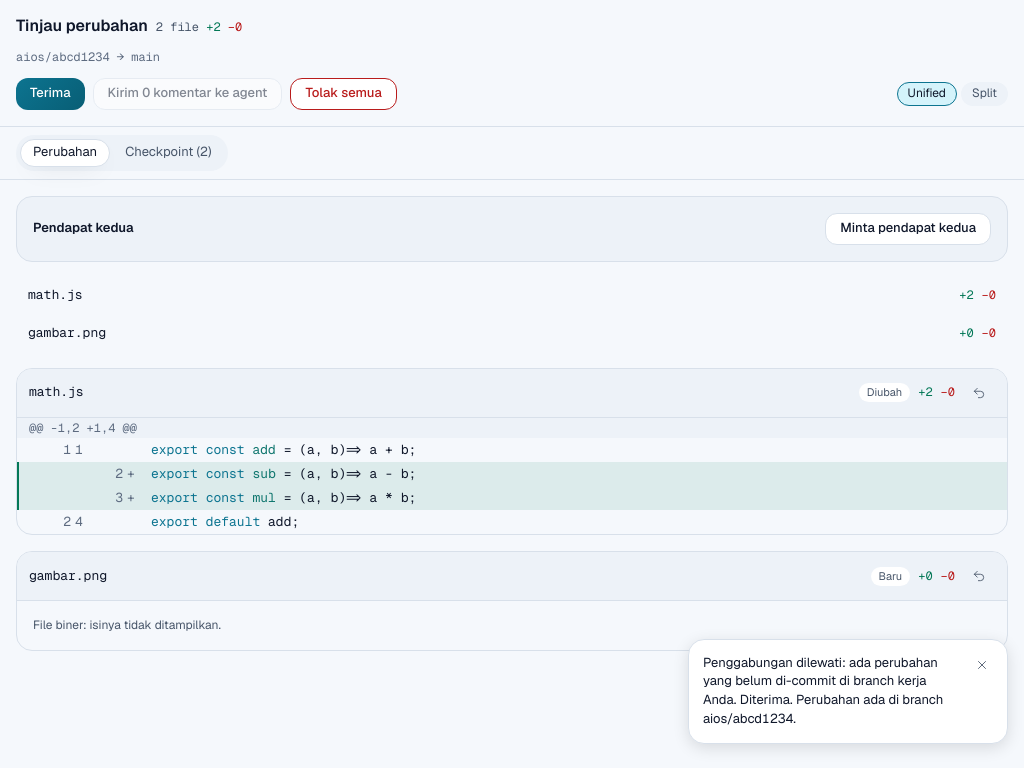
Scenario: Tinjau perubahan: terima dan tolak › Tolak semua: meminta konfirmasi dulu, lalu membuang
Check: the heading "Tinjau perubahan" is shown, box [16,16,148,37]
Check: the element "math.js" is shown, box [16,368,1008,535]
Click the button "Tolak semua": coordinates (344, 94) [290,78,397,110]
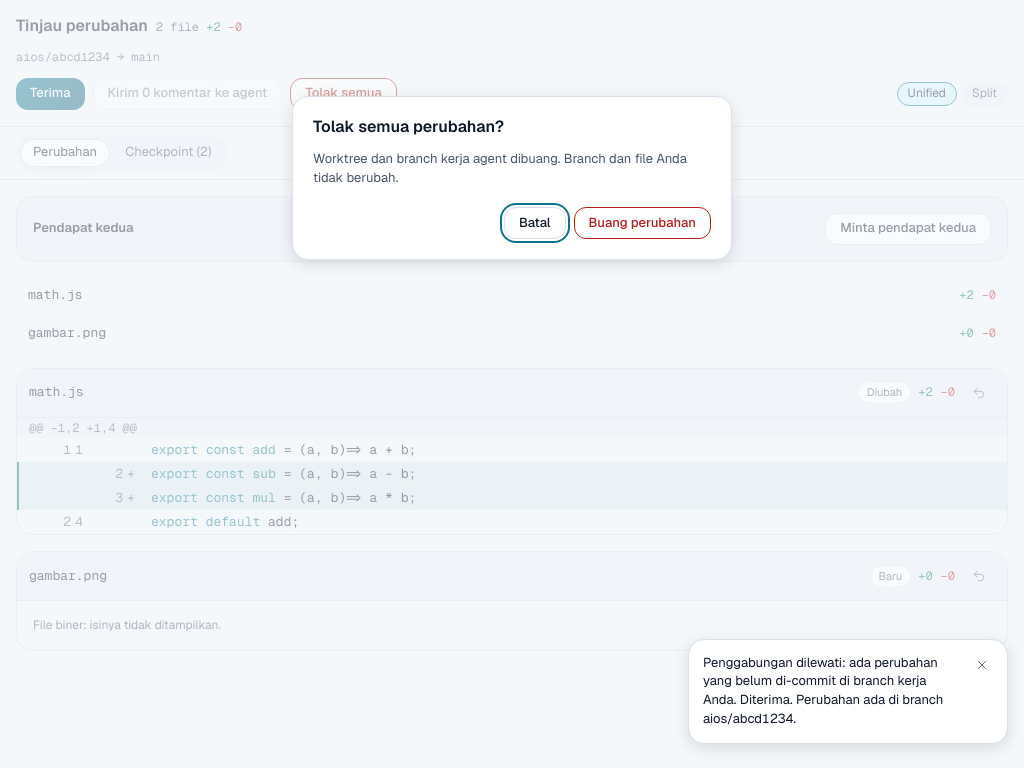
Click the button "Buang perubahan": coordinates (642, 224) [574,208,711,240]
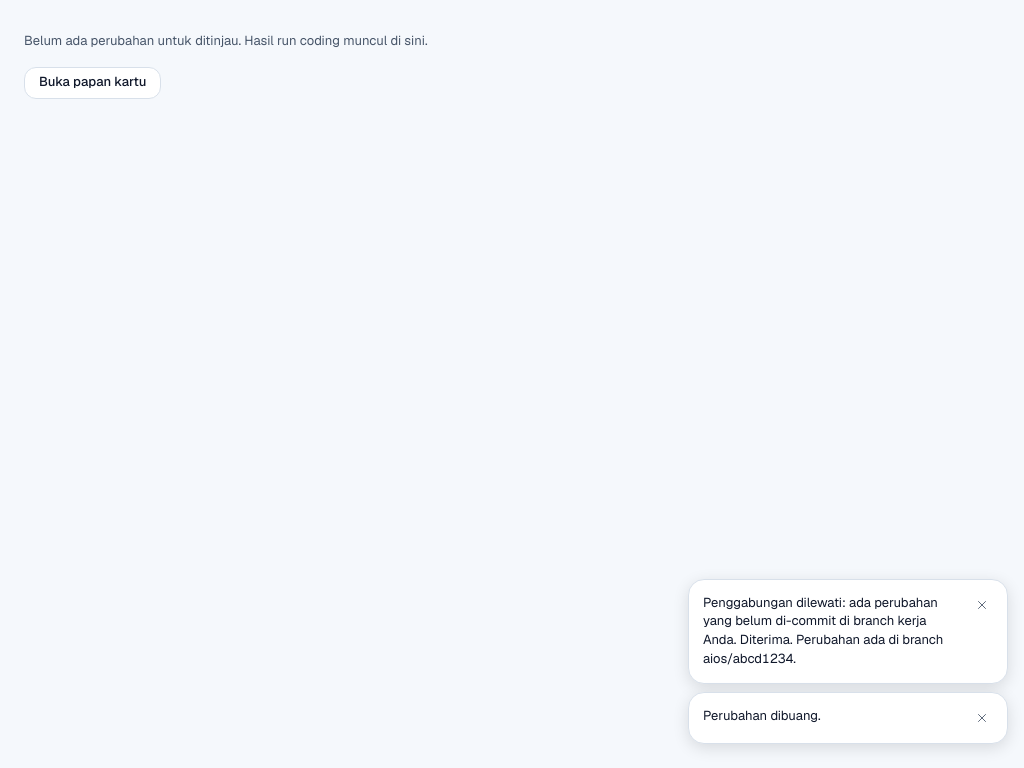
Check: the text "Perubahan dibuang." is shown, box [703,707,821,724]
